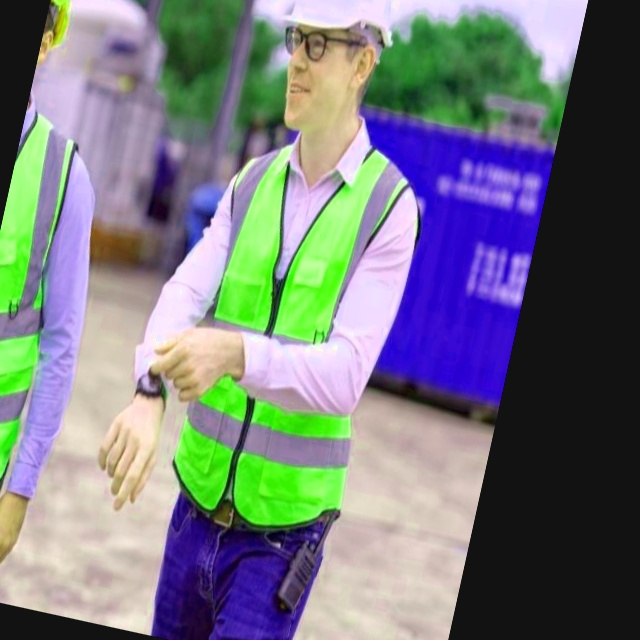Con_Casco: (259, 0, 412, 143)
Con_Chaleco: (157, 126, 421, 529)
